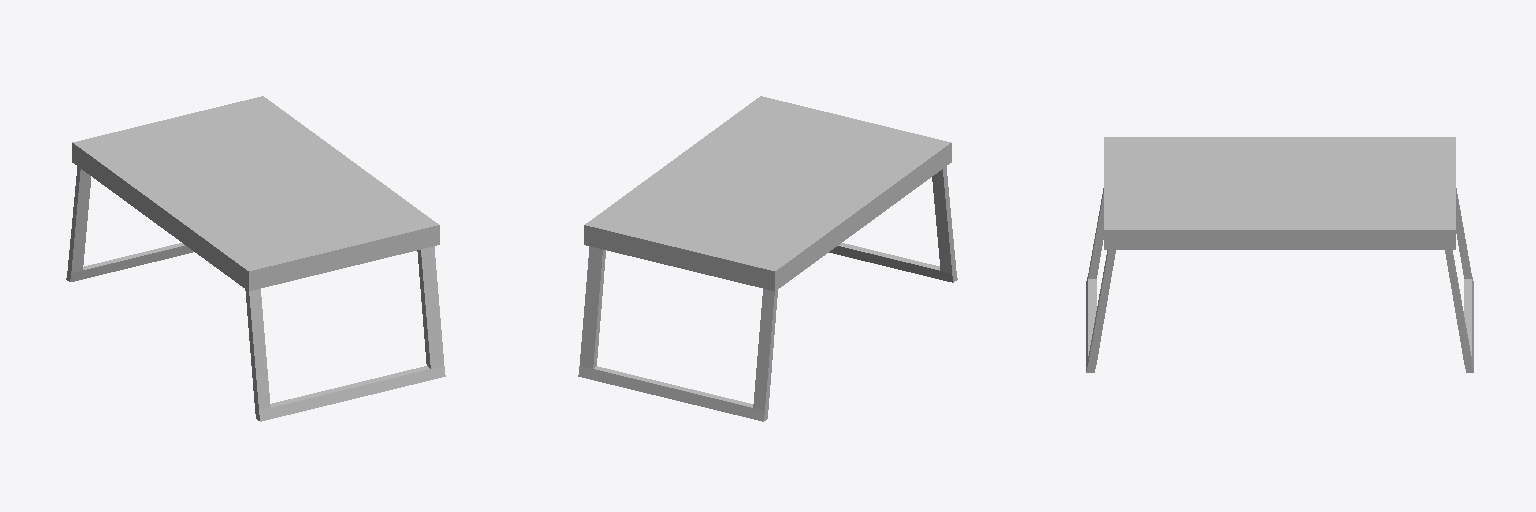
The model's file is Стол 1.obj.
3 views of the same model, side by side, from view 1: azimuth 30°, elevation 25°; view 2: azimuth 150°, elevation 25°; view 3: azimuth 270°, elevation 25° (orthographic).
Parts seen in each view (by area): view 1: Cube; view 2: Cube; view 3: Cube.
Part boxes in pixels (left/top/right/bottom): Cube: left=66, top=96, right=445, bottom=421; Cube: left=578, top=96, right=957, bottom=421; Cube: left=1086, top=137, right=1473, bottom=372.
Size of the model in its own units: 2 by 1.45 by 3.52.